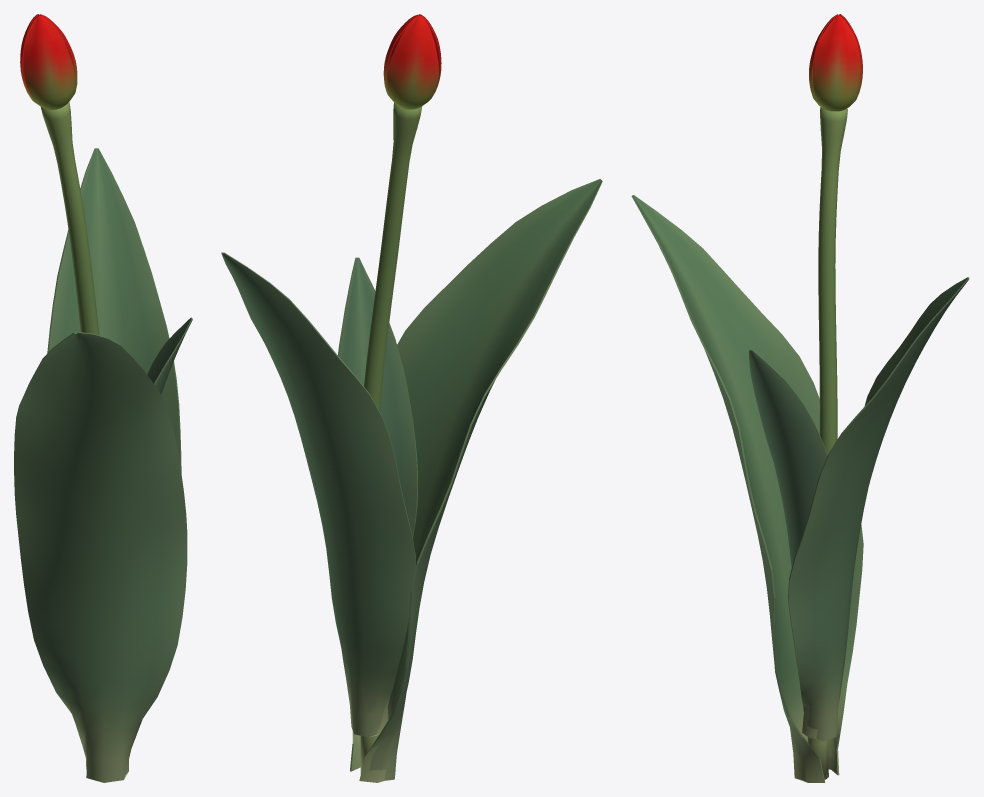
The model's file is bud-red.glb.
3 renders of one model, left to right at view 1: azimuth 30°, elevation 25°; view 2: azimuth 150°, elevation 25°; view 3: azimuth 270°, elevation 25°, orthographic. The views are drawn at different scales.
Visible parts, largest first — view 1: tulip-bud-red; view 2: tulip-bud-red; view 3: tulip-bud-red.
Part boxes in pixels (bbox=[...]): tulip-bud-red: bbox=[14, 14, 192, 782]; tulip-bud-red: bbox=[221, 14, 602, 782]; tulip-bud-red: bbox=[631, 14, 969, 782].
Size of the model in its own units: 0.0883 by 0.3058 by 0.1275.
